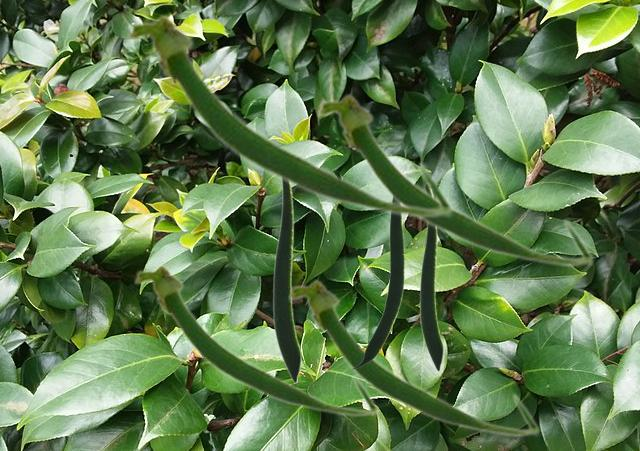french_bean: (124, 11, 454, 219), (315, 91, 594, 267), (286, 277, 540, 437), (132, 262, 379, 417), (351, 215, 403, 368), (272, 183, 301, 383), (419, 185, 443, 371)
